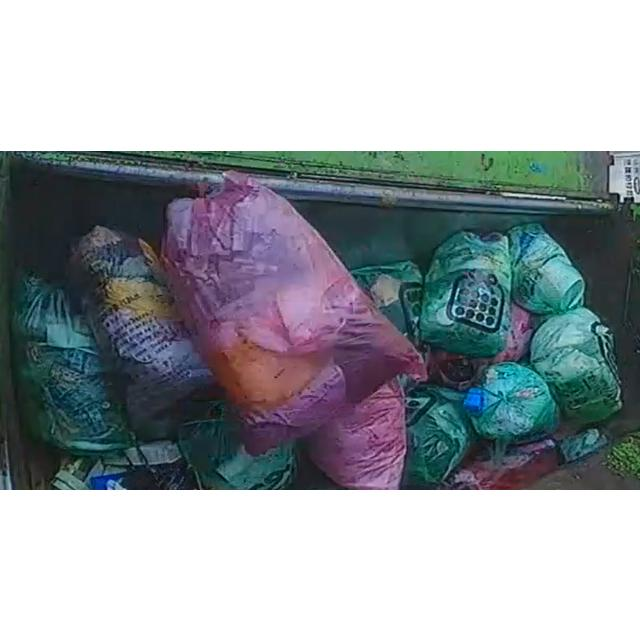general_trashbag: (16, 274, 131, 454), (420, 231, 511, 356), (530, 306, 621, 424), (179, 400, 296, 489), (464, 361, 559, 463), (508, 222, 585, 314), (405, 384, 472, 484), (353, 260, 422, 344)
other_trashbag: (162, 172, 425, 452), (71, 225, 210, 441), (308, 379, 406, 489)
